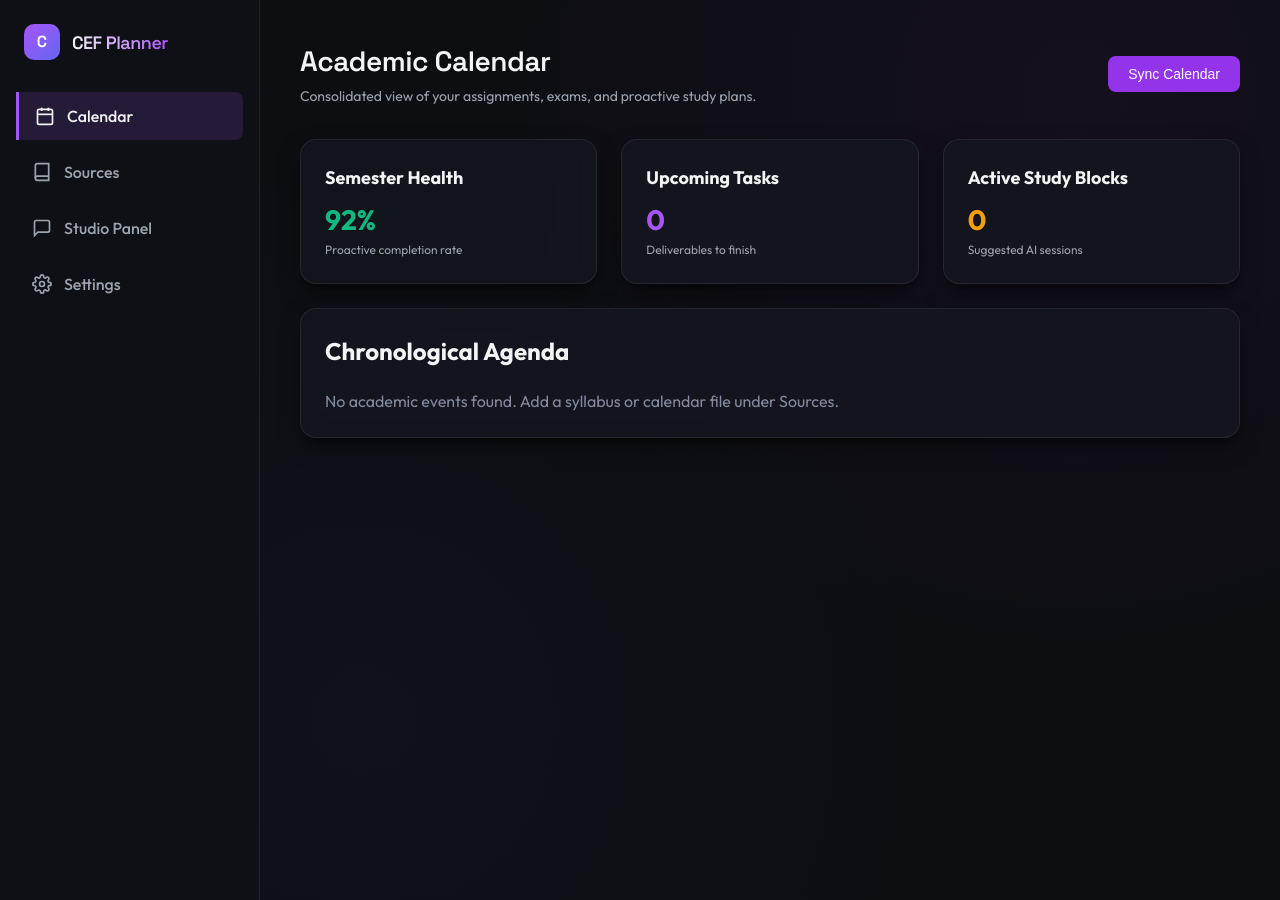
Test: Sources Panel — default rendered state › has no axe violations
The width and height of the screenshot is (1280, 900).
expect the heading "Academic Calendar" is shown: met, box [300,43,551,79]
Click the button "Sources": (130, 172) [16,148,243,196]
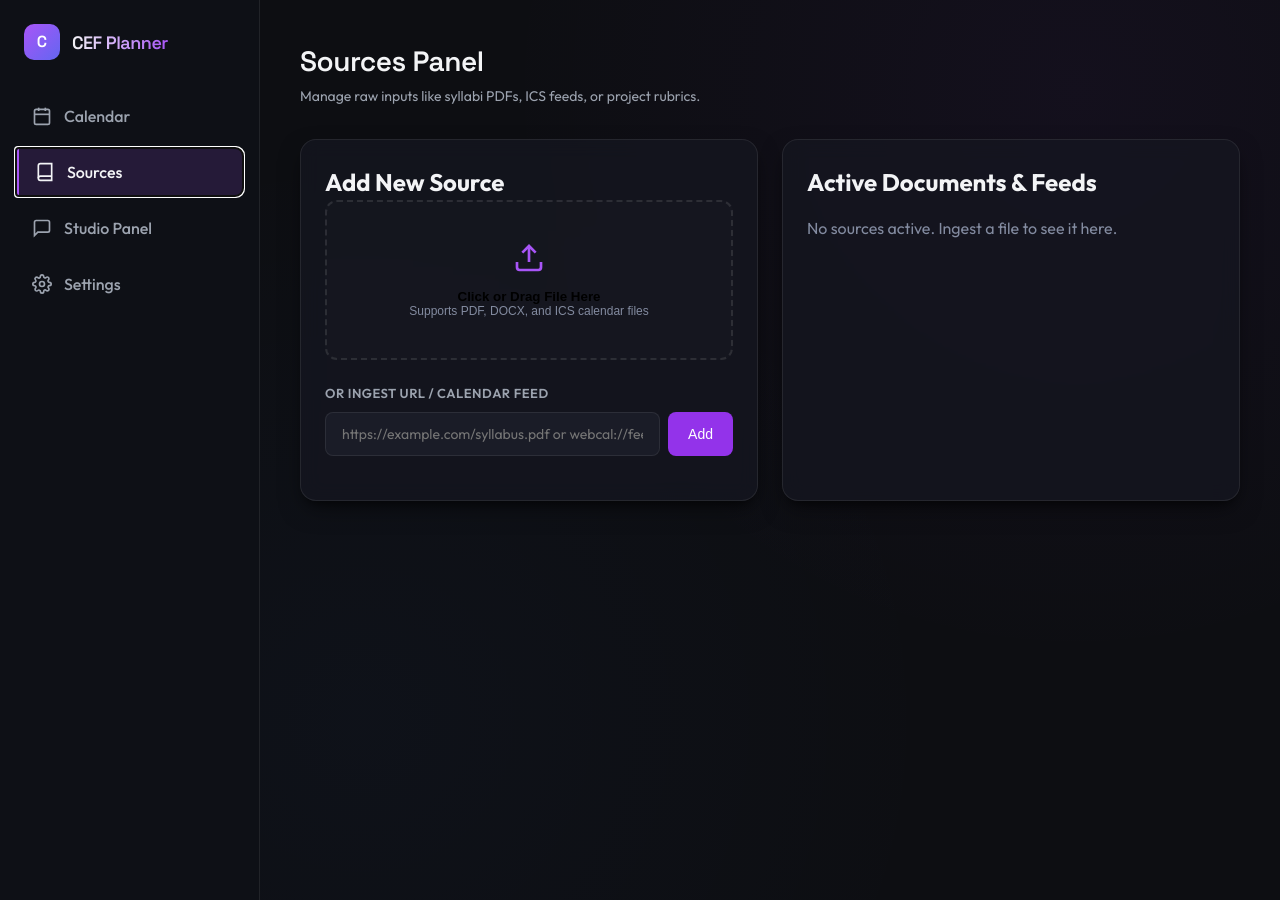
expect the heading "Sources Panel" is shown: met, box [300,43,484,79]
